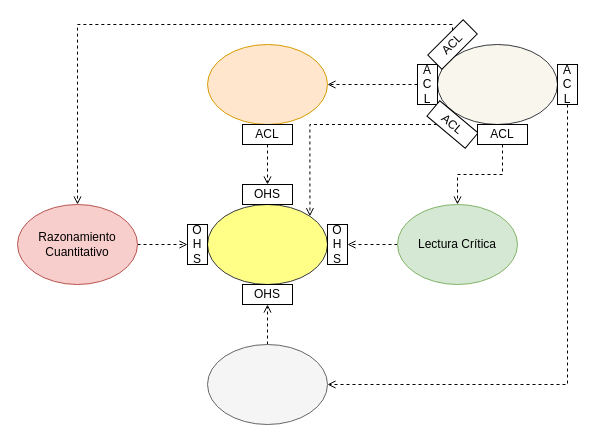
Some shapes in this 595 by 442 pixel diagram are drawn without their labels. The shapes that lost their labels are listed below. From the top down, each one's box as (x1, y1, x2, y2) in pixels, then its label:
(206, 44, 328, 124): Procrast inación
(436, 44, 558, 124): Planes Entrenamiento
(206, 204, 328, 284): Componente Base
(206, 344, 328, 424): Control Inhibitorio
